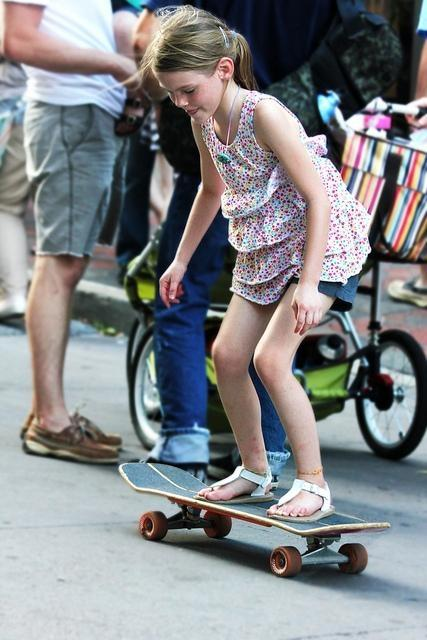bicycle: (292, 152, 426, 460), (126, 306, 238, 459)
